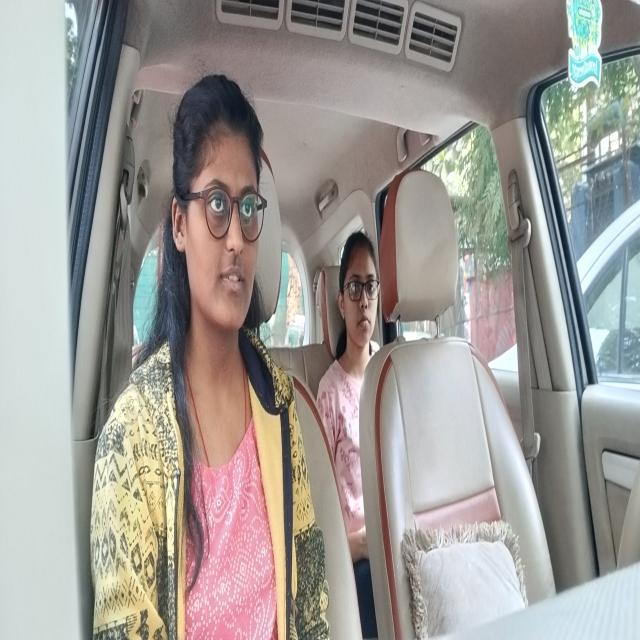person: (170, 73, 265, 335), (343, 232, 383, 348)
